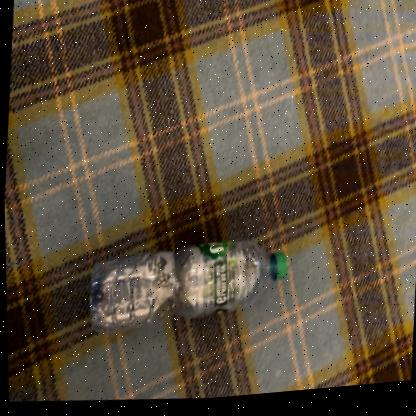Plastic: (89, 244, 286, 334)
